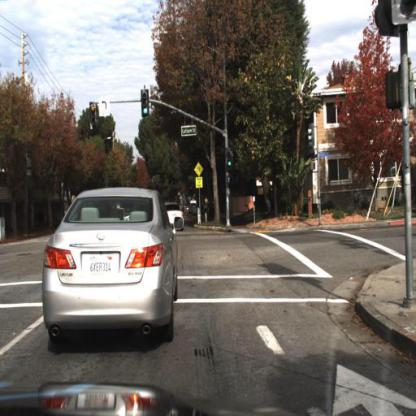car: (42, 187, 185, 346)
trafficLight: (142, 94, 152, 127)
trafficLight-Green: (225, 152, 236, 179)
trafficLight-RedLeft: (88, 108, 98, 142)
